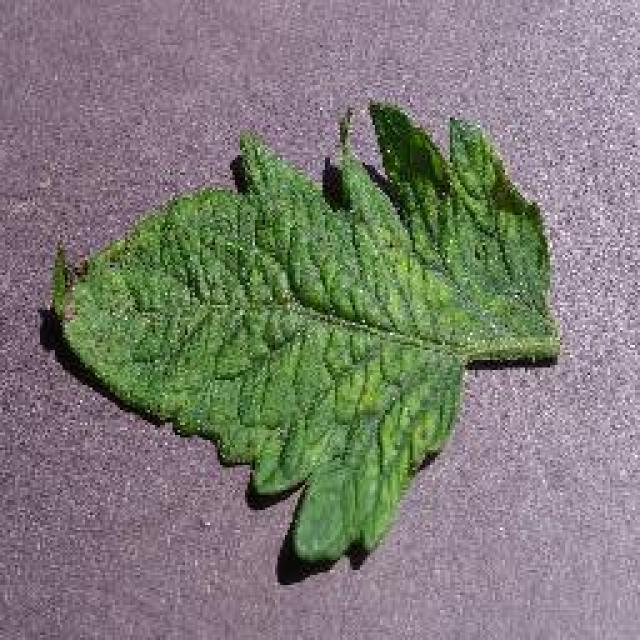Tomato spider mites leaf: (42, 102, 552, 560)
